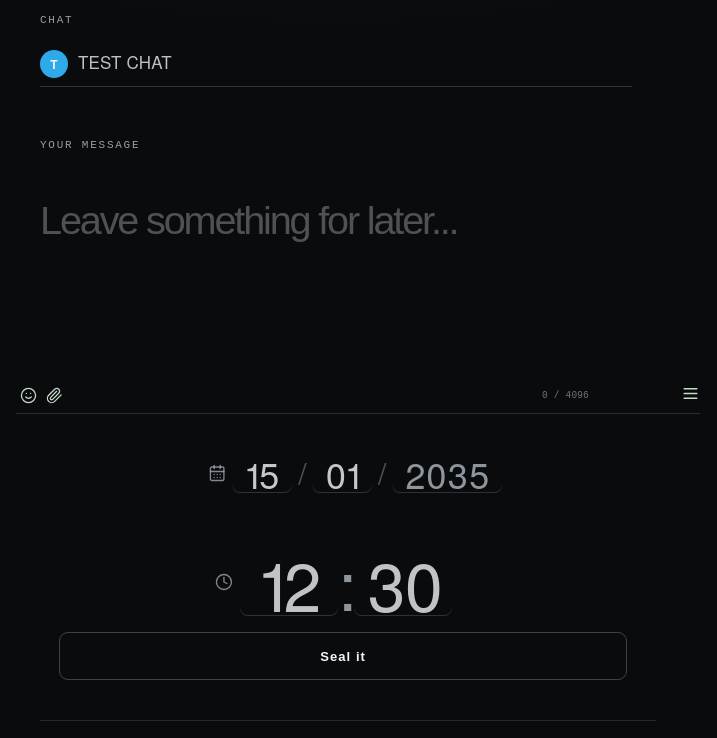
SchedulePage production composer › keeps the three-line message options menu available
Click the button with class "message-send-button": (690, 393) top-left (680, 383), bottom-right (700, 403)
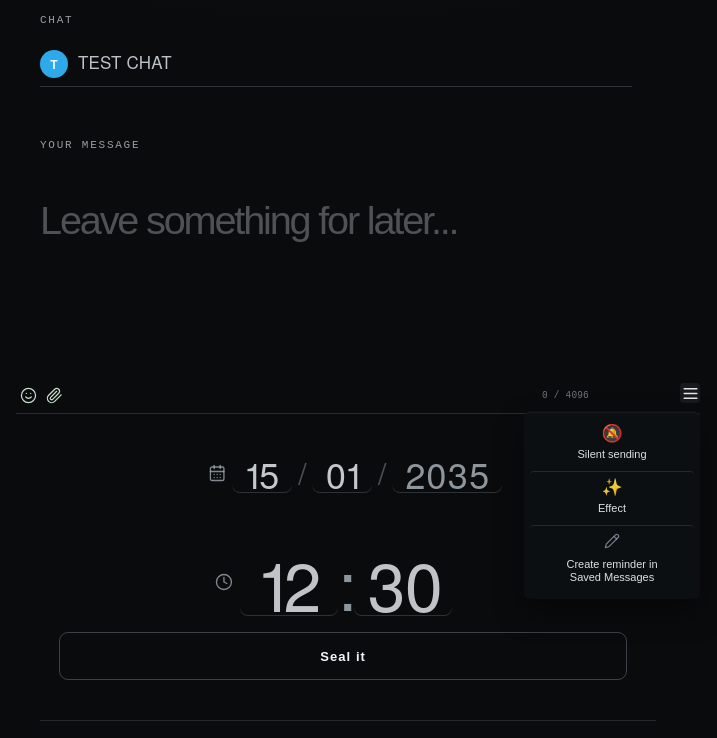
Check: the menu named "Message options" shows "Silent sending", box top-left (530, 417), bottom-right (694, 471)
Check: the menu named "Message options" shows "Effect", box top-left (530, 471), bottom-right (694, 525)
Check: the menu named "Message options" shows "Create reminder in Saved Messages", box top-left (530, 525), bottom-right (694, 593)
